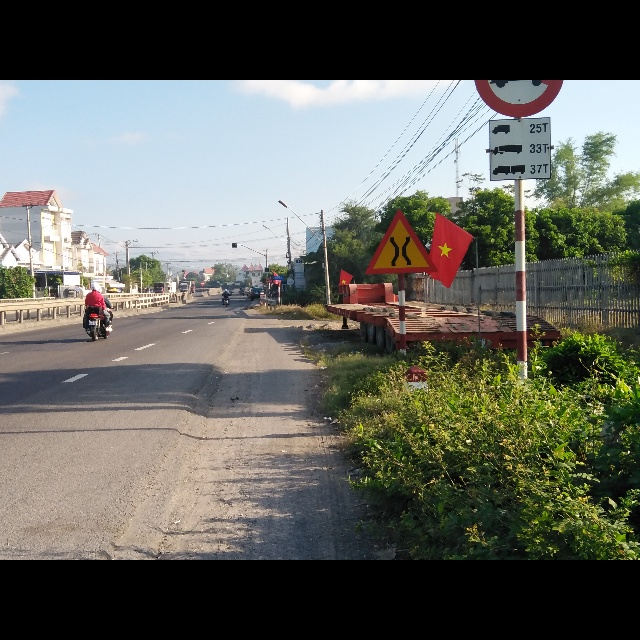Cầu hẹp: (364, 204, 440, 278)
